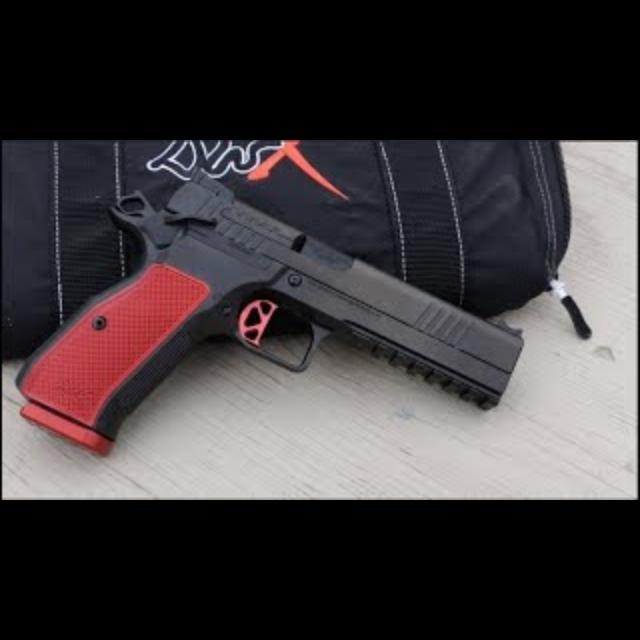handgun: (12, 162, 530, 460)
